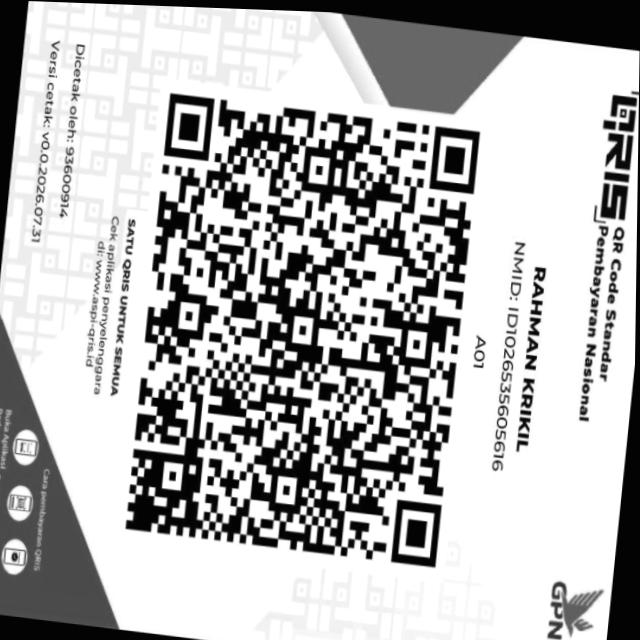acquirer: (50, 34, 94, 223)
nama_merchant: (511, 254, 553, 465)
nmid: (482, 227, 529, 484)
qrcode: (110, 81, 484, 577)
tid: (462, 320, 491, 384)
